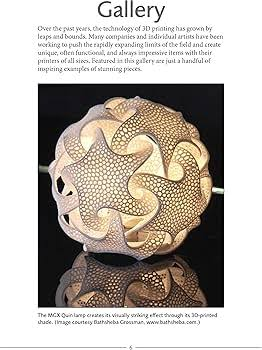3d print: (49, 97, 211, 259), (56, 252, 206, 306)
